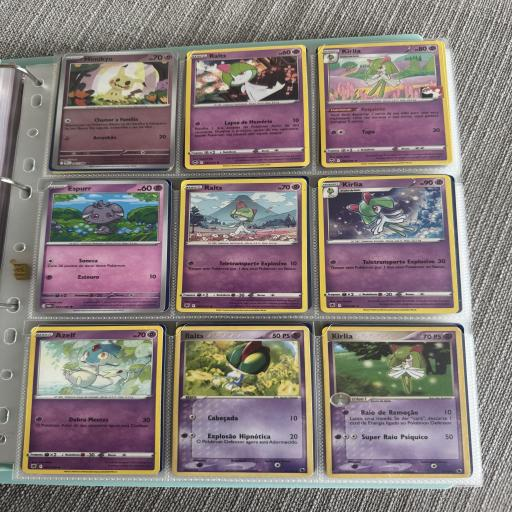card: (321, 322, 471, 483), (22, 324, 164, 475), (172, 326, 314, 477), (318, 174, 459, 316), (34, 180, 169, 313), (176, 177, 308, 313), (317, 40, 453, 168), (179, 45, 312, 173), (52, 49, 178, 172)
